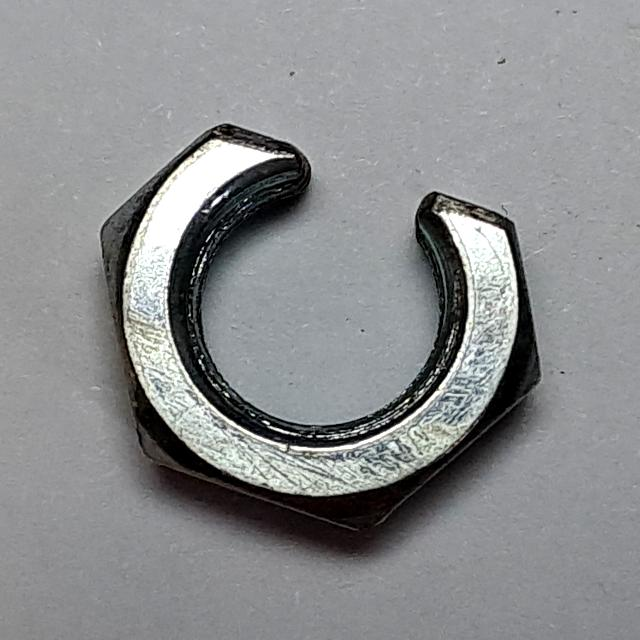Fracture: (81, 107, 567, 552)
